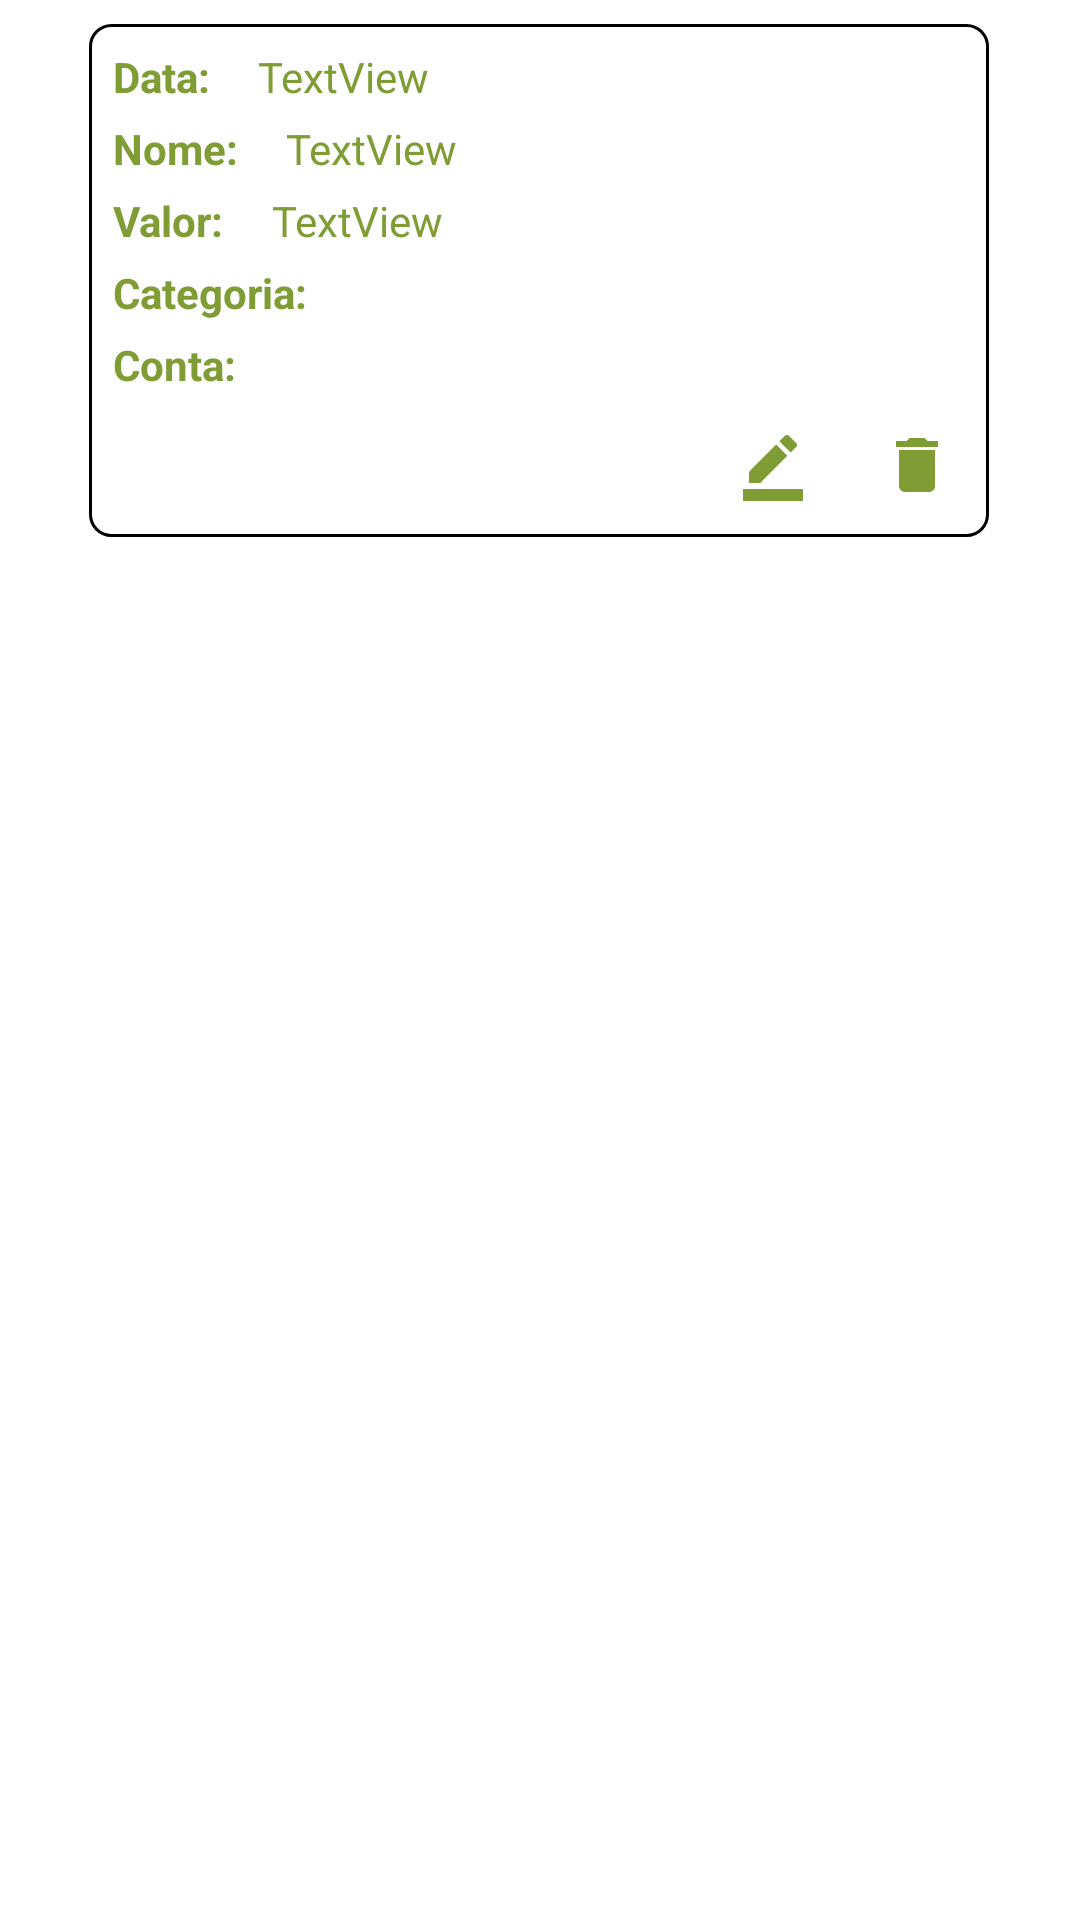

Icon bounding boxes for this 1080px×1920px phone screenshot, format (x1, y1, x2, y2):
Editar: (743, 435, 803, 501)
Remover: (896, 438, 938, 492)
